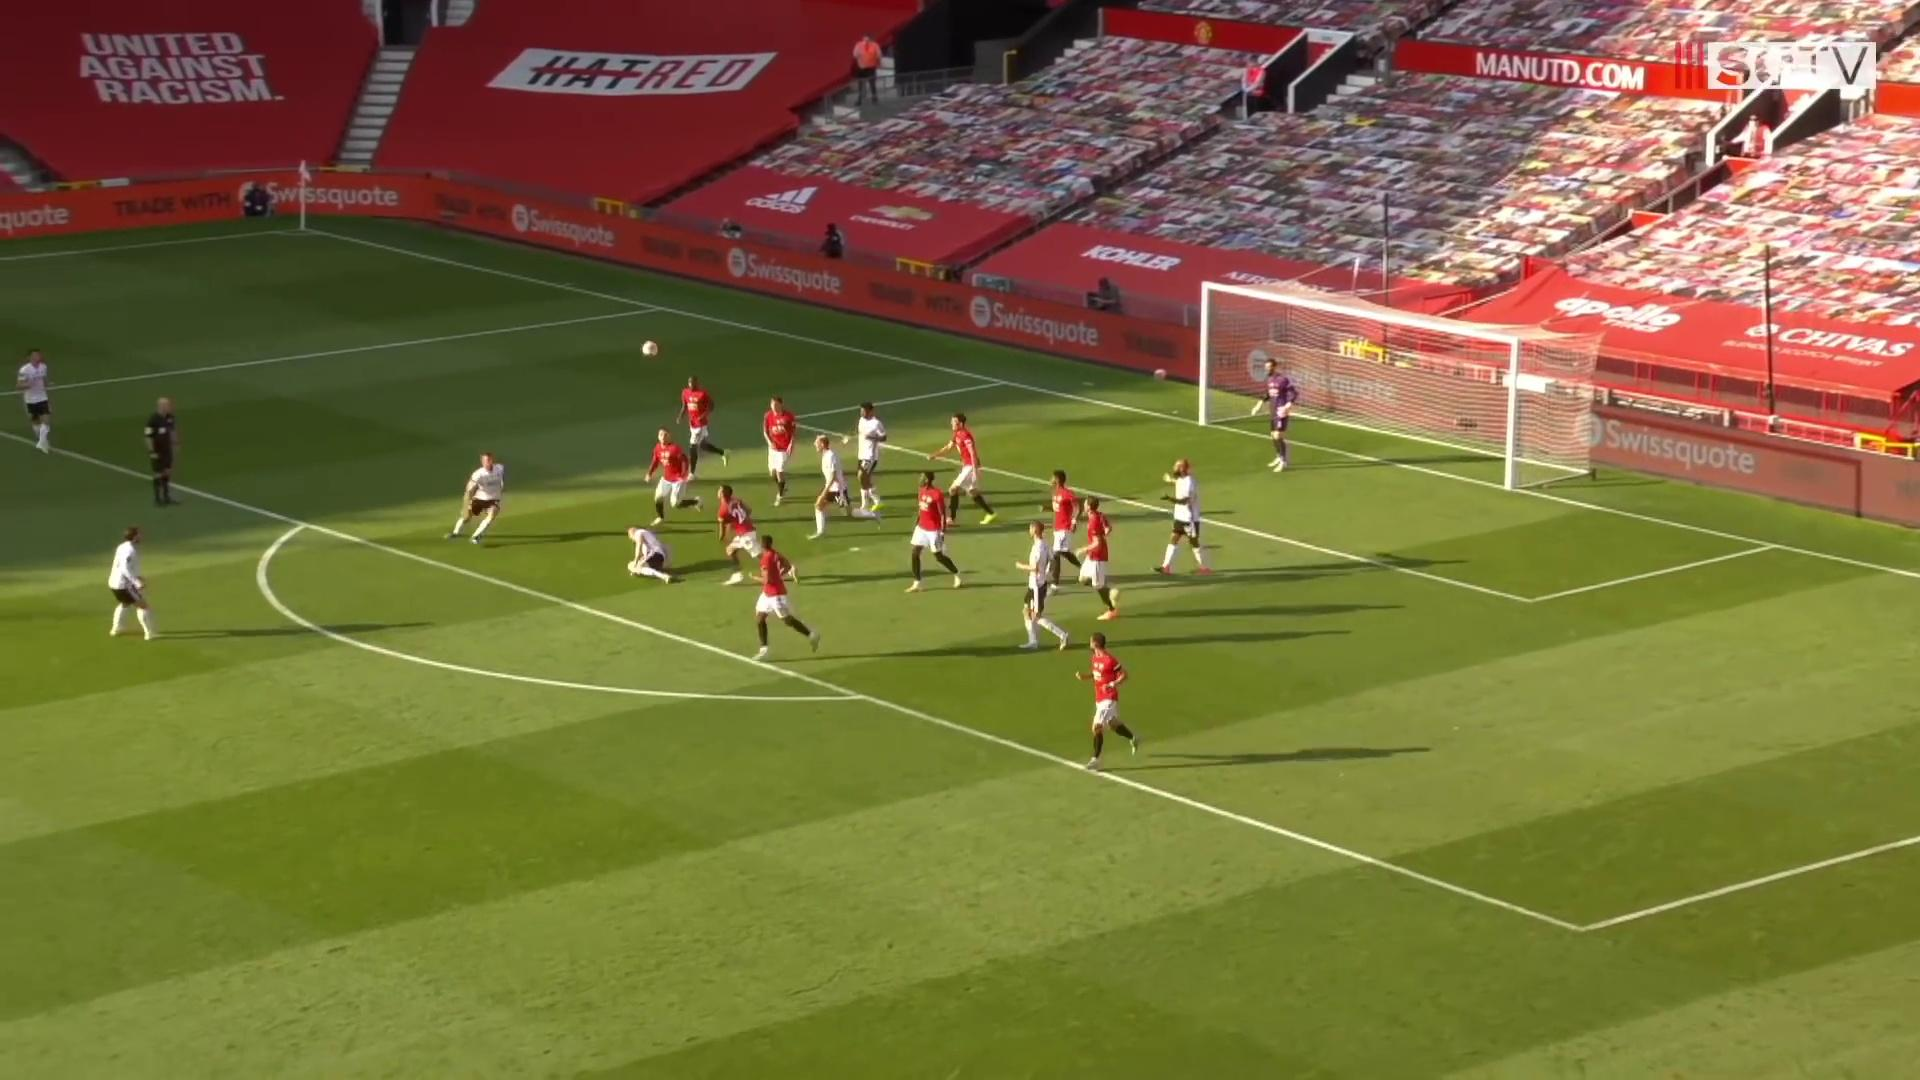ball: (638, 337, 662, 364), (1150, 364, 1170, 384)
goalkeeper: (1248, 359, 1301, 474)
player: (744, 535, 822, 665), (1075, 630, 1142, 772), (901, 465, 965, 593), (1069, 491, 1127, 622), (1014, 519, 1069, 656), (940, 409, 1003, 527), (102, 528, 161, 647), (1154, 453, 1211, 575), (452, 449, 517, 548), (642, 424, 700, 529), (843, 399, 891, 523), (713, 485, 769, 591), (676, 371, 727, 479), (1046, 467, 1090, 590), (15, 345, 60, 457), (805, 435, 852, 542), (757, 393, 800, 506), (623, 520, 681, 590)
referee: (144, 391, 188, 512)
